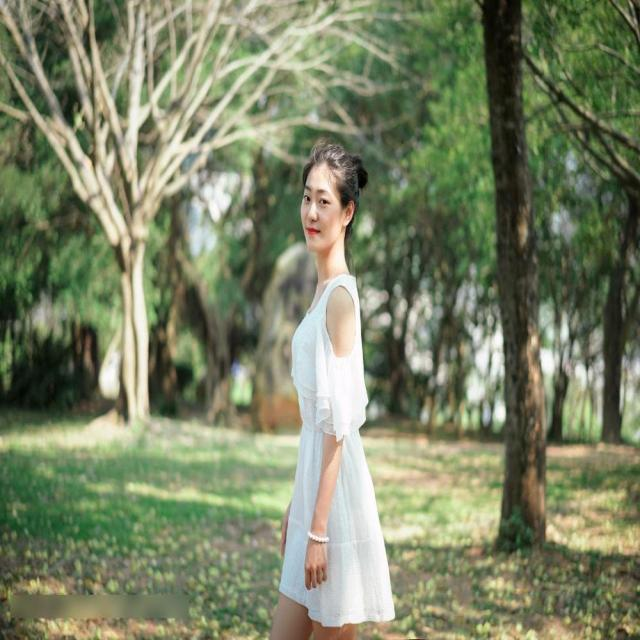obstacle: (231, 92, 416, 640)
